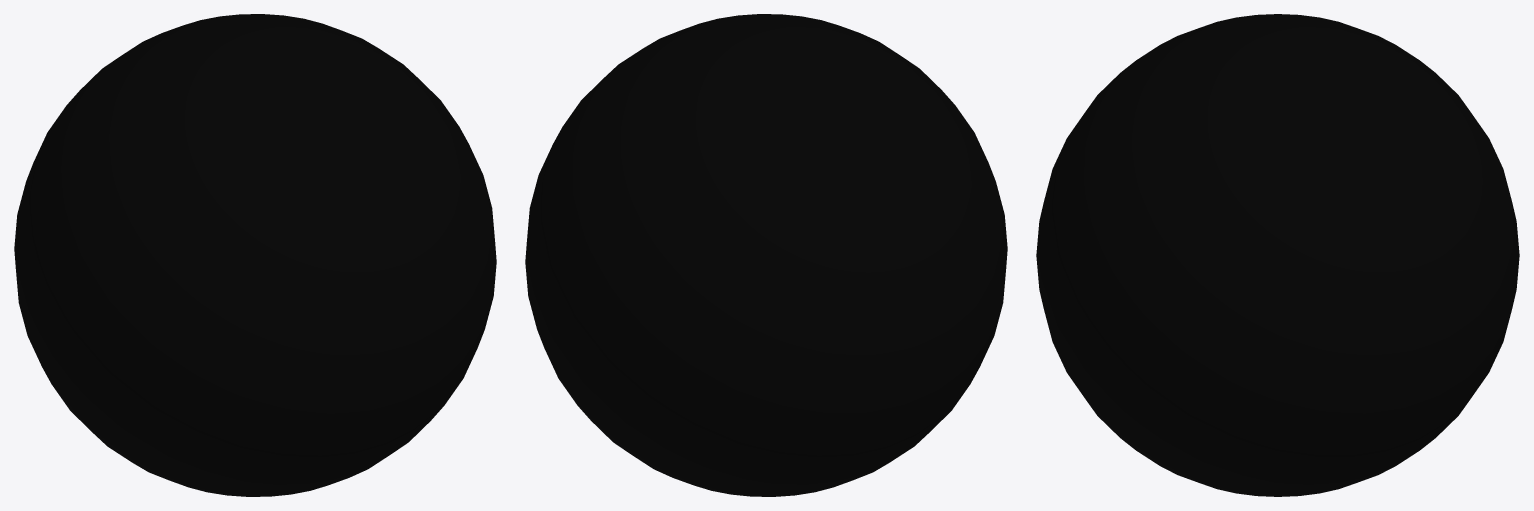
Rendered from great-station-pilot.glb.
3 views of the same model, side by side, from view 1: azimuth 30°, elevation 25°; view 2: azimuth 150°, elevation 25°; view 3: azimuth 270°, elevation 25° (orthographic).
Parts seen in each view (by area): view 1: star_dome; view 2: star_dome; view 3: star_dome.
Boxes of the visible parts, left/top/right/bottom form: star_dome: left=14, top=14, right=496, bottom=496; star_dome: left=525, top=14, right=1007, bottom=496; star_dome: left=1036, top=14, right=1519, bottom=496.
Bounding box in the file's own units: 12000 × 12000 × 12000.
36 materials, 30 textured.
